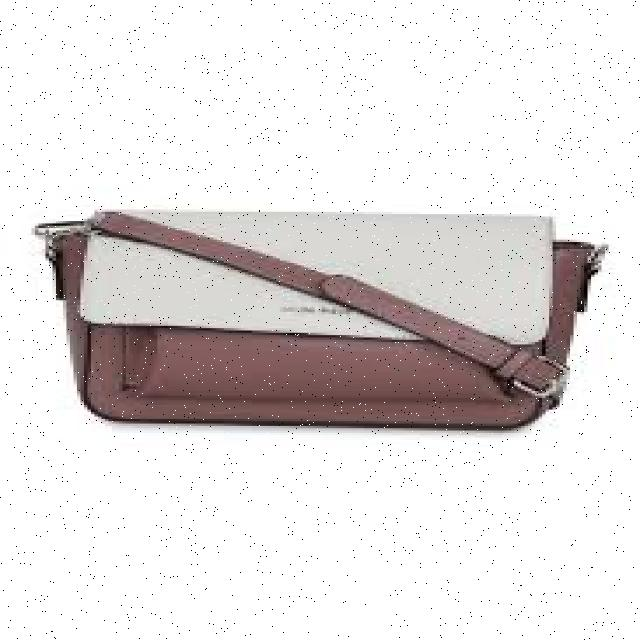handbag: (32, 207, 605, 428)
